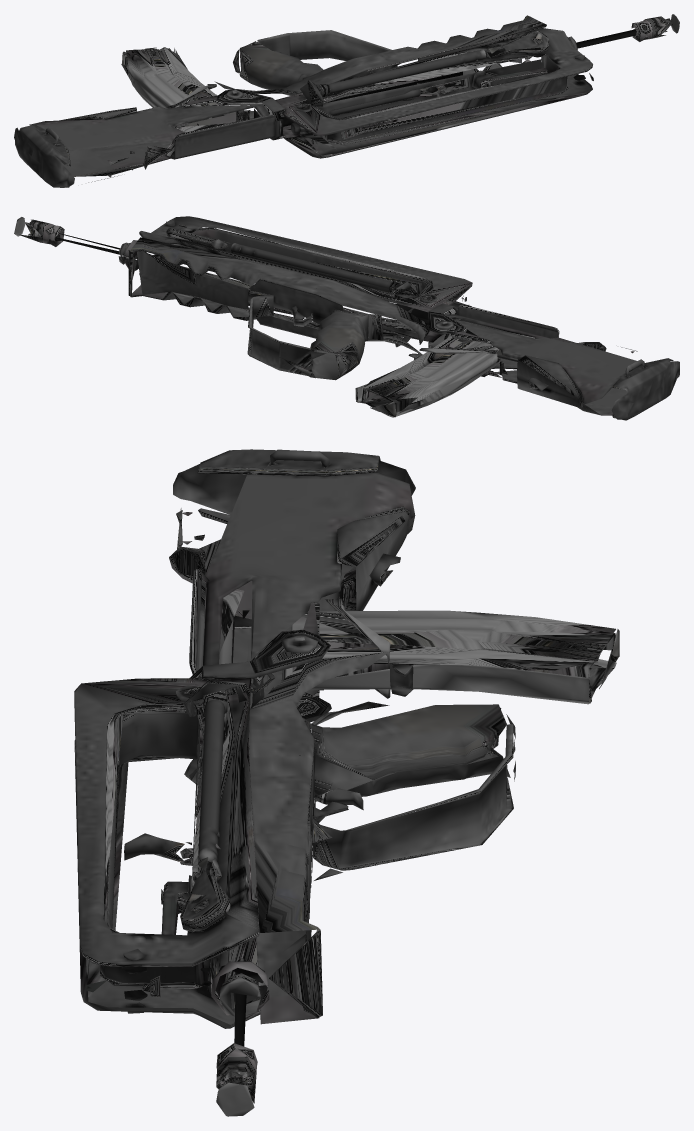
Rendered from p_famas.glb.
3 renders of one model, top to bottom at view 1: azimuth 30°, elevation 25°; view 2: azimuth 150°, elevation 25°; view 3: azimuth 270°, elevation 25°, orthographic. The views are drawn at different scales.
Parts seen in each view (by area): view 1: p_famas; view 2: p_famas; view 3: p_famas.
Boxes of the visible parts, x1,y1,x2,y2 form: p_famas: (14, 14, 679, 187); p_famas: (14, 216, 679, 420); p_famas: (74, 449, 619, 1116).
Bounding box in the file's own units: 1.1 × 0.105 × 0.416.
1 material, 1 textured.
